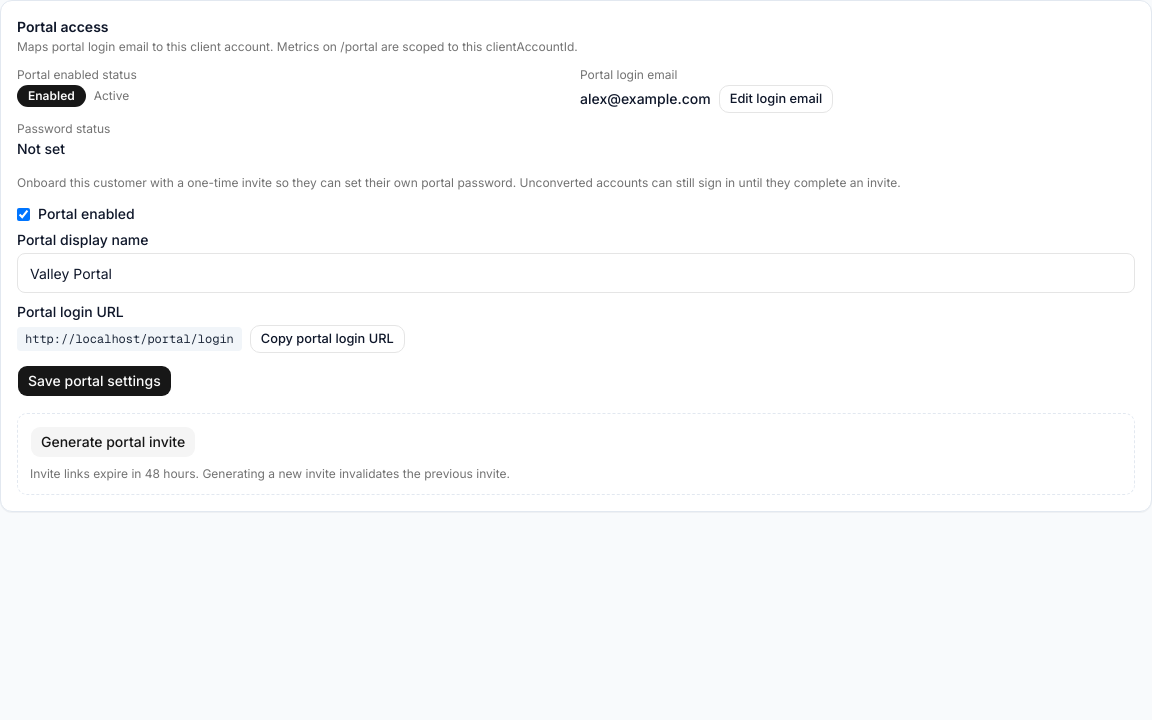
Test: raw invite is not stored in persistent browser state
The width and height of the screenshot is (1152, 720).
What coordinates should you click on to do the following:
click the button "Generate portal invite"
I would click on:
 (113, 442)
Its box is [30,426,196,458].
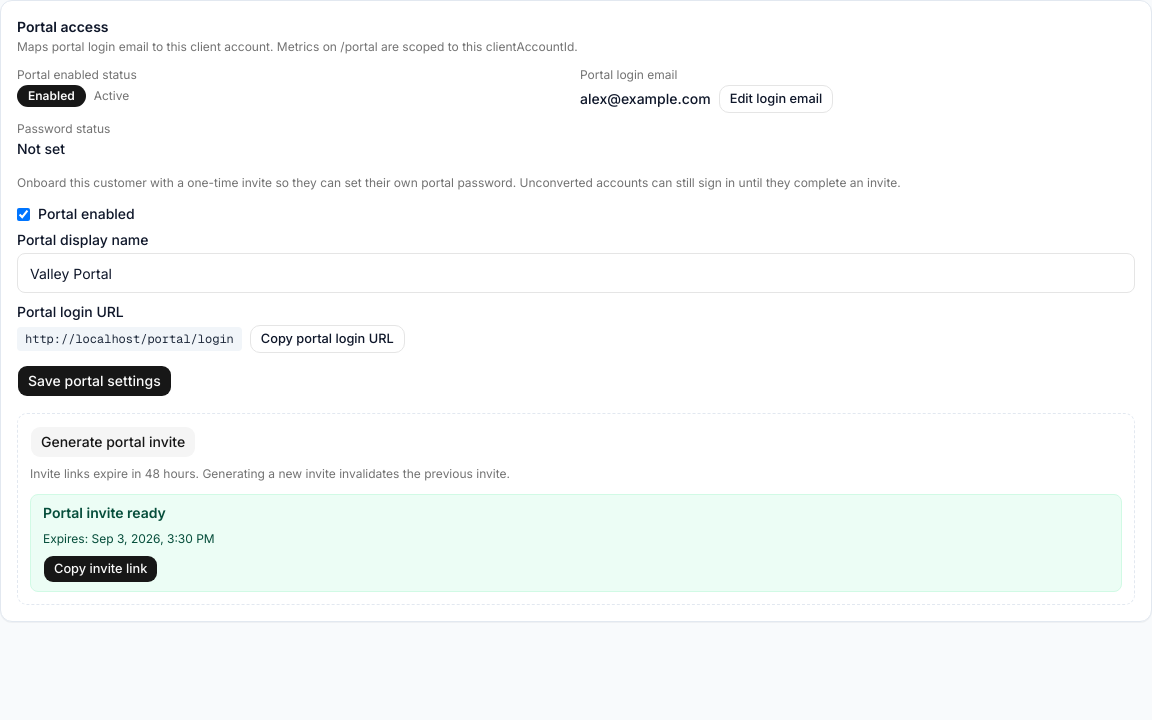
expect the text "Portal invite ready" is shown: met, box [43,504,166,521]
